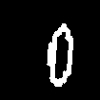chain: (47, 24, 72, 86)
